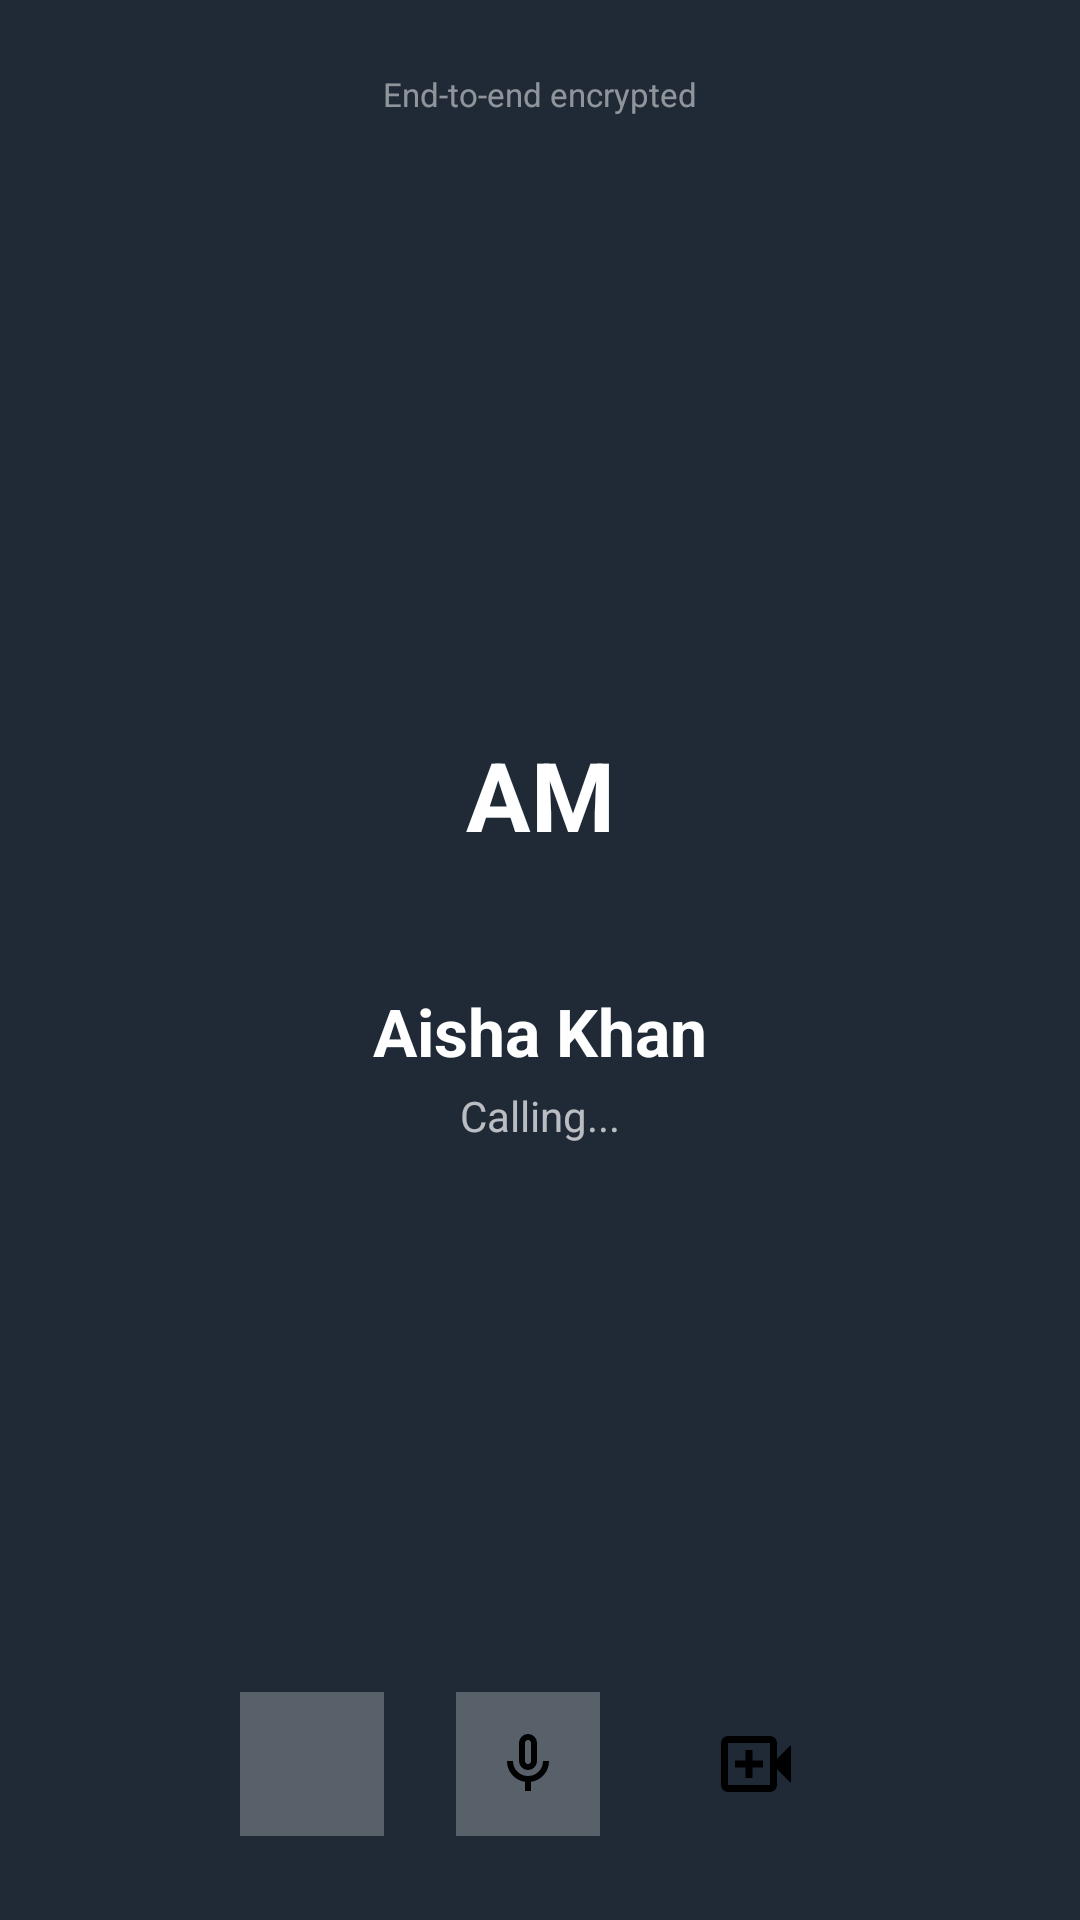

Screen size 1080 x 1920. Icon name, then its box in pixels as (x1, y1, x2, y2):
Mute: (456, 1692, 600, 1836)
